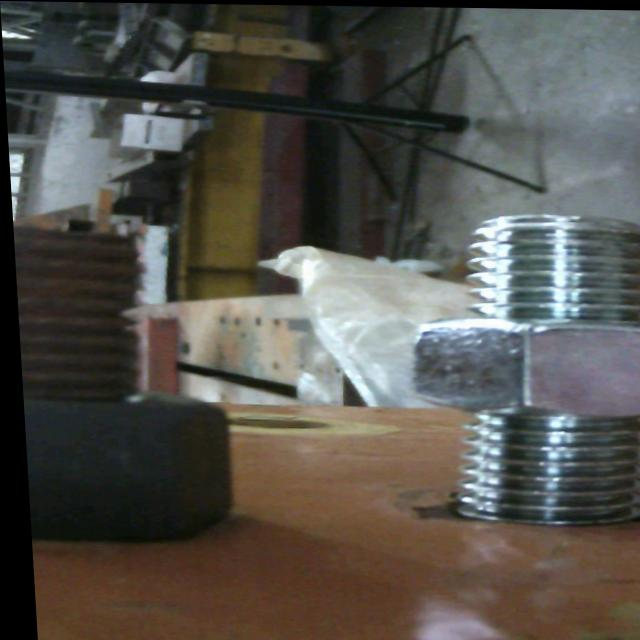Loose bolt: (388, 210, 640, 511)
Missing bolt: (229, 408, 320, 433)
Regular bolt: (376, 205, 640, 522)
Rusty bolt: (13, 209, 234, 543)
